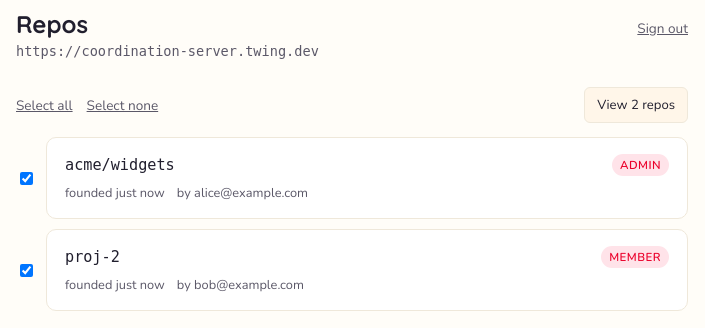
Scenario: RepoListView › unchecking one repo narrows the view button's count and its own selection
The width and height of the screenshot is (705, 328).
Click the checkbox named "include proj-2" at (26, 270), box [20, 264, 33, 276]
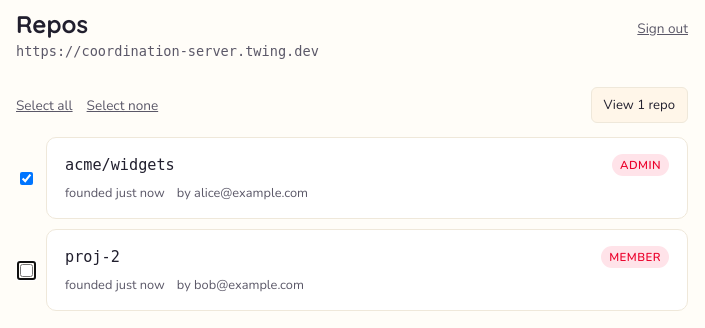
Now the button "View 1 repo" is shown, box [590, 87, 688, 123]
